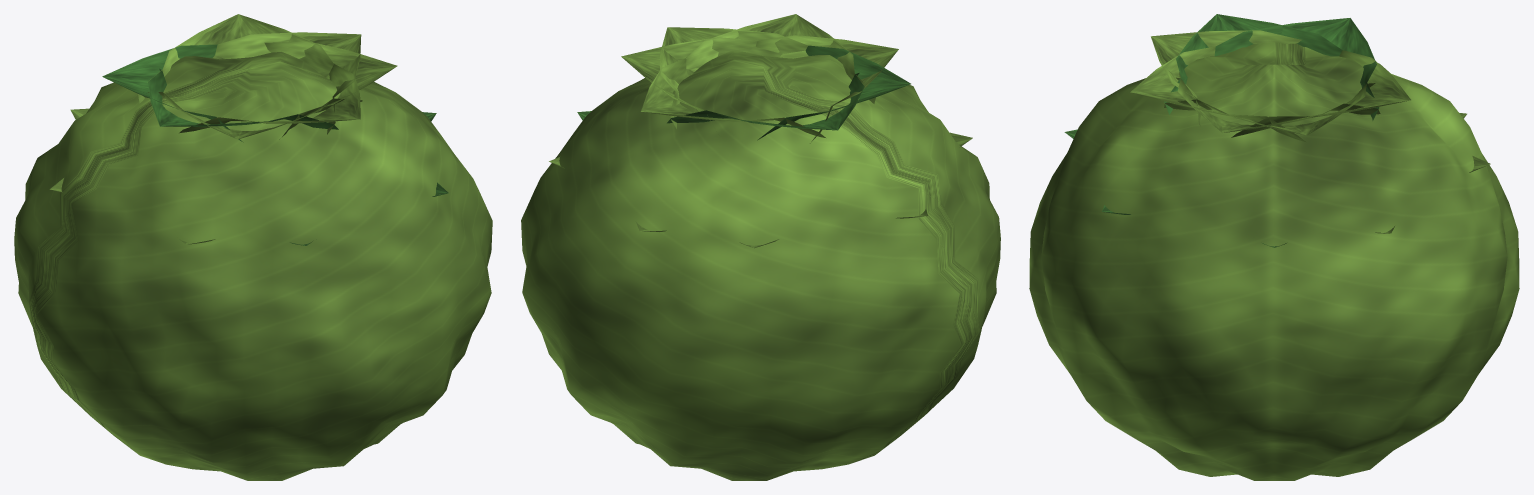
File: cabbage.glb
3 renders of one model, left to right at view 1: azimuth 30°, elevation 25°; view 2: azimuth 150°, elevation 25°; view 3: azimuth 270°, elevation 25°, orthographic.
Parts seen in each view (by area): view 1: leaf_light, leaf; view 2: leaf_light, leaf; view 3: leaf_light, leaf.
Boxes of the visible parts, x1,y1,x2,y2 form: leaf_light: (14,14,492,480); leaf: (102,44,448,245); leaf_light: (521,14,1000,480); leaf: (577,45,910,140); leaf_light: (1029,30,1519,480); leaf: (1064,14,1379,247).
Bounding box in the file's own units: 0.1549 × 0.1376 × 0.1554.
2 materials, 2 textured.
